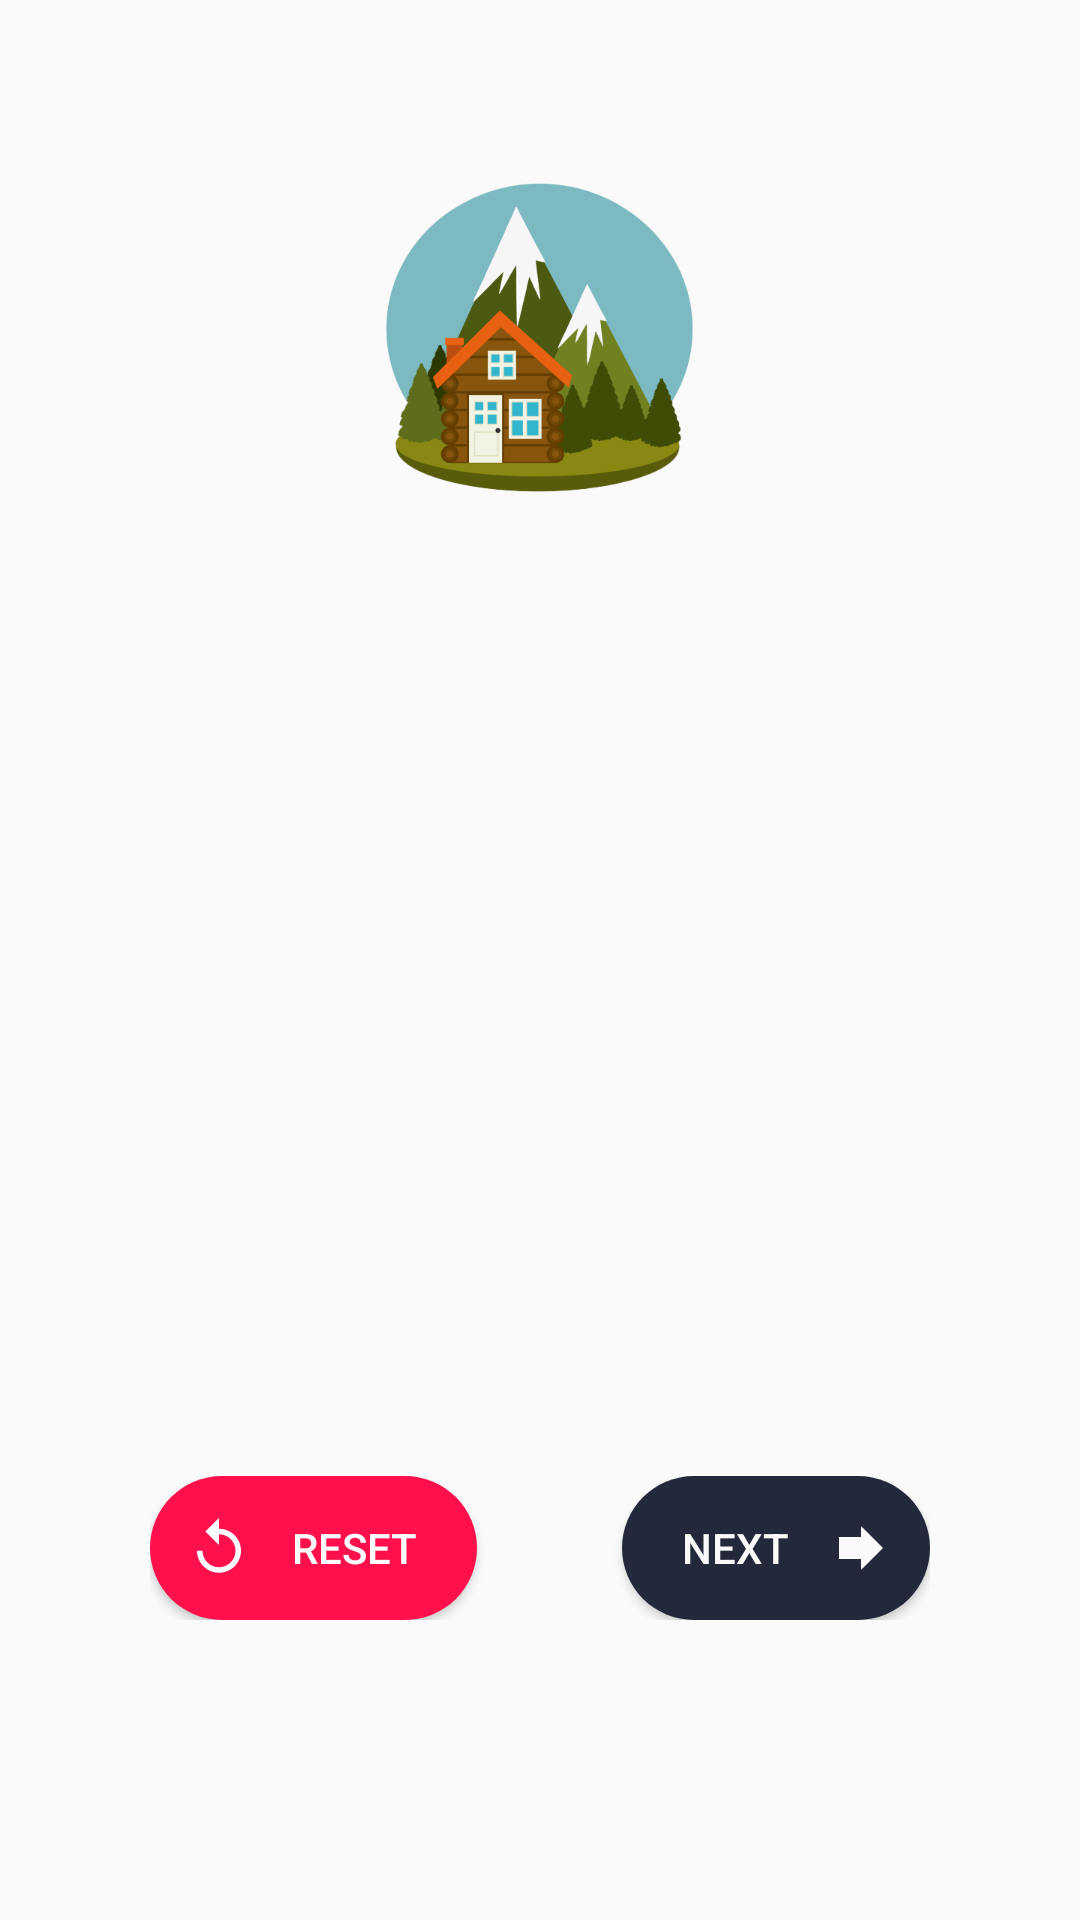

Where icons sit on this 1080w x 1920h app screen, as (x1, y1, x2, y2):
Display Image: (386, 183, 693, 492)
